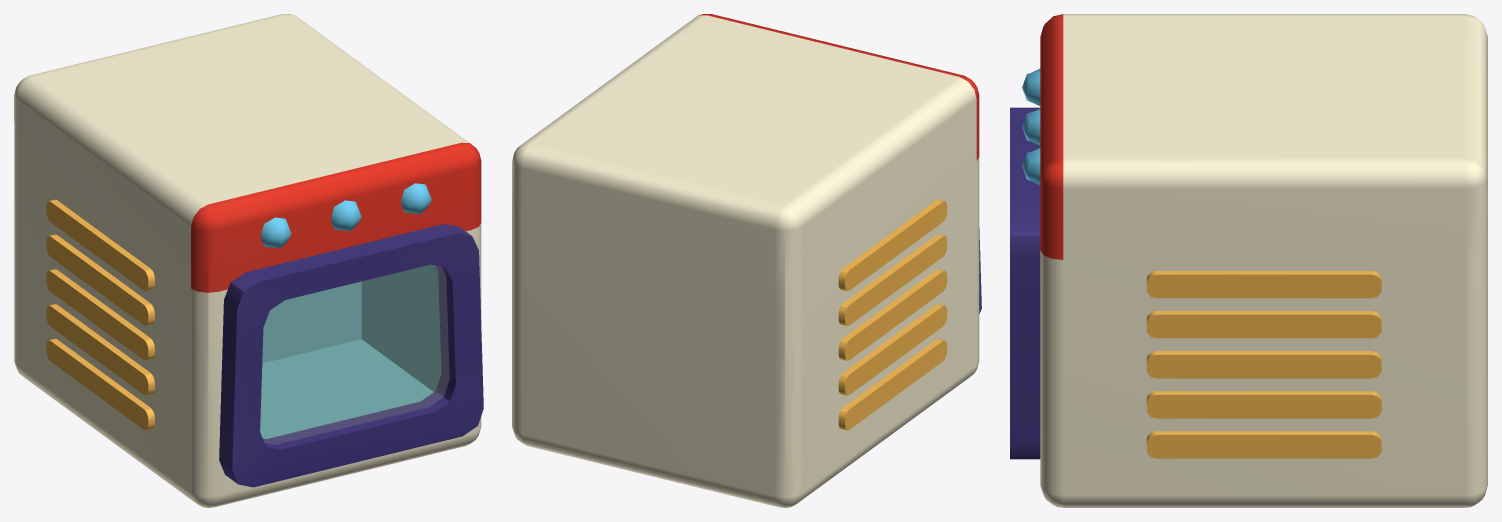
The model's file is Lo_nuong_banh_1.fbx.
3 views of the same model, side by side, from view 1: azimuth 30°, elevation 25°; view 2: azimuth 150°, elevation 25°; view 3: azimuth 270°, elevation 25° (orthographic). The views are drawn at different scales.
Parts seen in each view (by area): view 1: Lo_nuong_banh_1; view 2: Lo_nuong_banh_1; view 3: Lo_nuong_banh_1.
Part boxes in pixels (bbox=[...]): Lo_nuong_banh_1: bbox=[14, 14, 483, 507]; Lo_nuong_banh_1: bbox=[512, 14, 981, 507]; Lo_nuong_banh_1: bbox=[1010, 14, 1487, 507].
Bounding box in the file's own units: 111 × 107 × 133.
